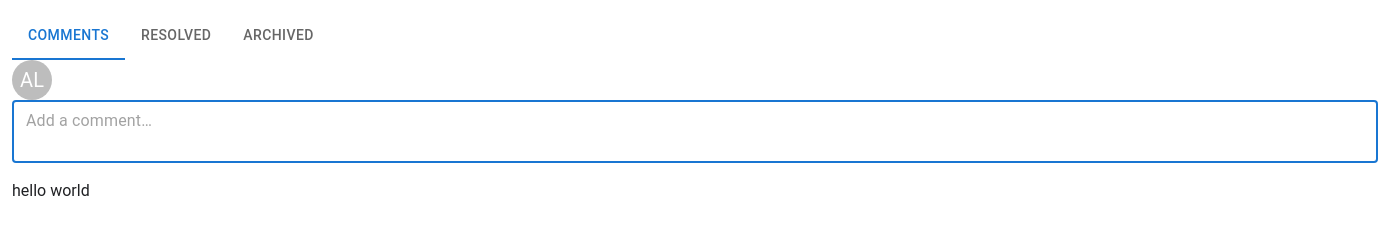
Test: <CommentsPanel /> › composer: Comment POSTs the text + the anchor payload DERIVED AT SUBMIT from the draft
This screenshot has width=1378, height=244.
Type "needs a source" into the text box named "Comment text".
click(695, 132); type("needs a source")  # box [26, 108, 1364, 154]
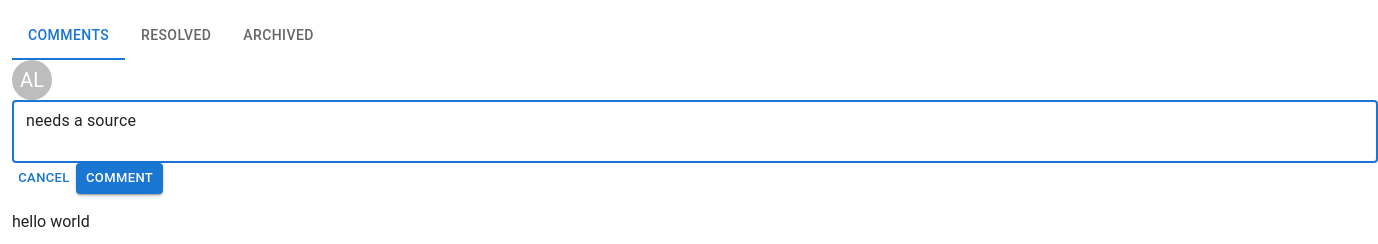
Click the button "Comment".
click(120, 178)  # box [76, 163, 163, 194]
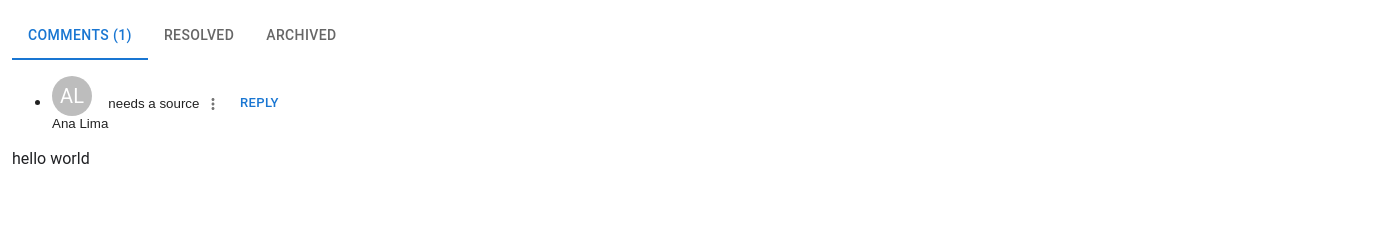
Expected: the text with class "comment" reads "hello", [12, 149, 46, 168]
Expected: the text "needs a source" is shown, [108, 96, 199, 111]
